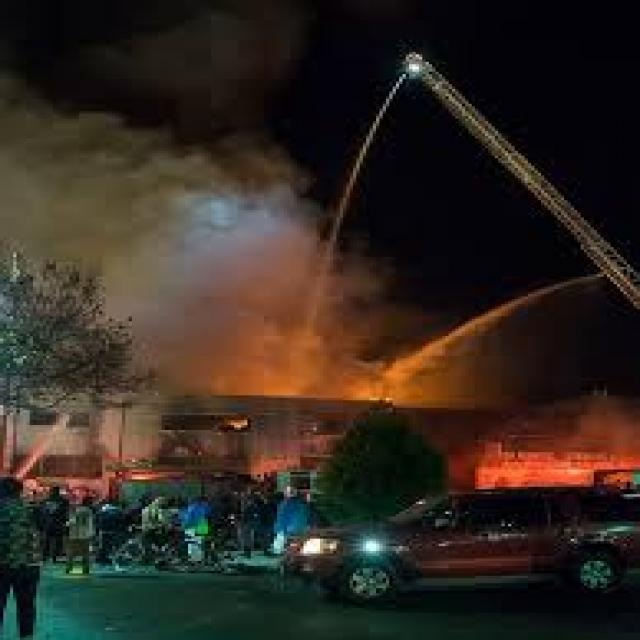smoke: (3, 87, 386, 400)
